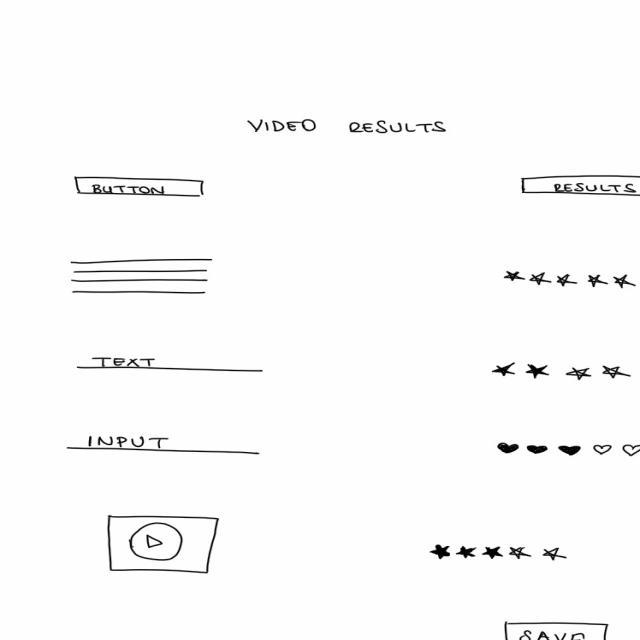button: (74, 175, 205, 199), (517, 175, 640, 198), (502, 620, 612, 640)
input: (63, 433, 263, 458), (74, 353, 267, 375)
label: (245, 116, 448, 136)
text: (67, 255, 216, 298)
